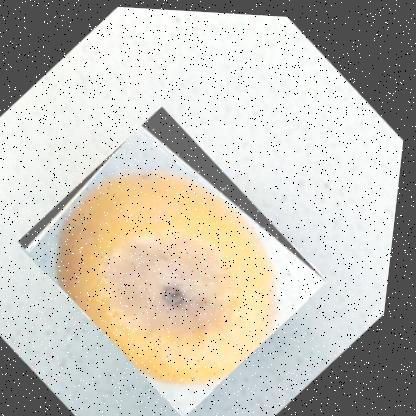orange_rotten: (6, 95, 347, 415)
